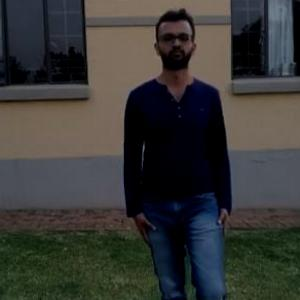follow: (123, 20, 230, 276)
